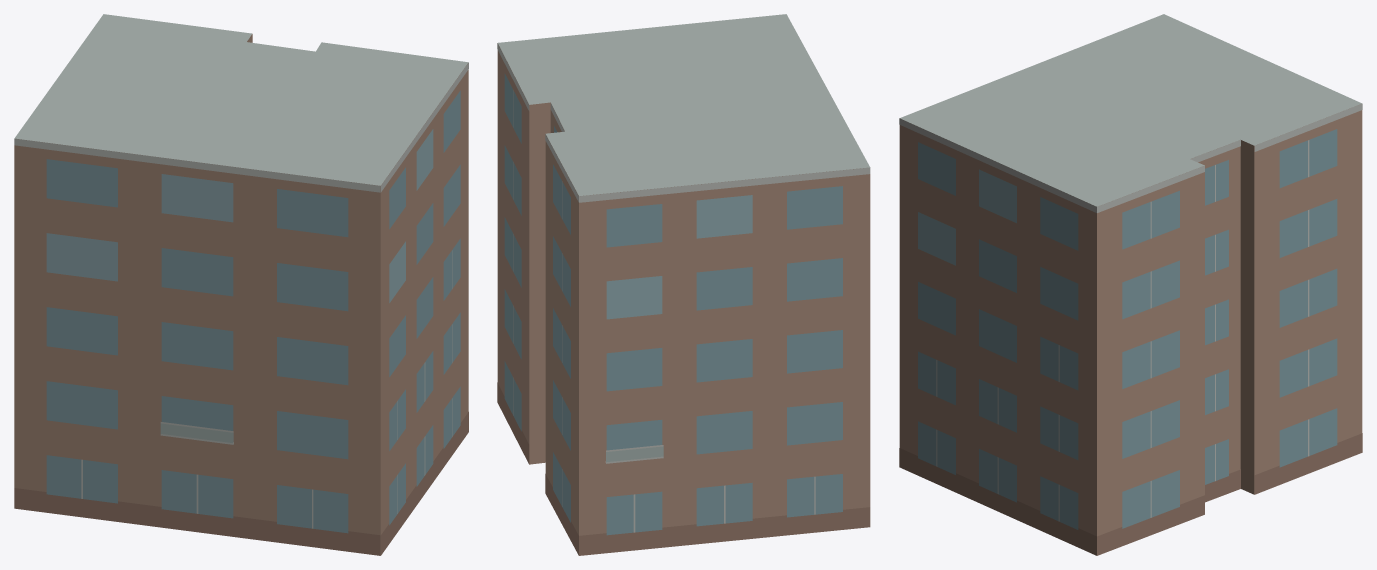
The model's file is survey-upis-32888625.glb.
The picture shows the model from 3 angles, left to right: view 1: azimuth 30°, elevation 25°; view 2: azimuth 150°, elevation 25°; view 3: azimuth 270°, elevation 25°; orthographic projection. The views are drawn at different scales.
Visible parts, largest first — view 1: survey-upis-32888625.tmp; view 2: survey-upis-32888625.tmp; view 3: survey-upis-32888625.tmp.
Part boxes in pixels (x1=…): survey-upis-32888625.tmp: x1=14, y1=14, x2=468, y2=555; survey-upis-32888625.tmp: x1=497, y1=14, x2=870, y2=555; survey-upis-32888625.tmp: x1=899, y1=14, x2=1362, y2=555.
Bounding box in the file's own units: 15.65 × 13.2 × 15.87.
